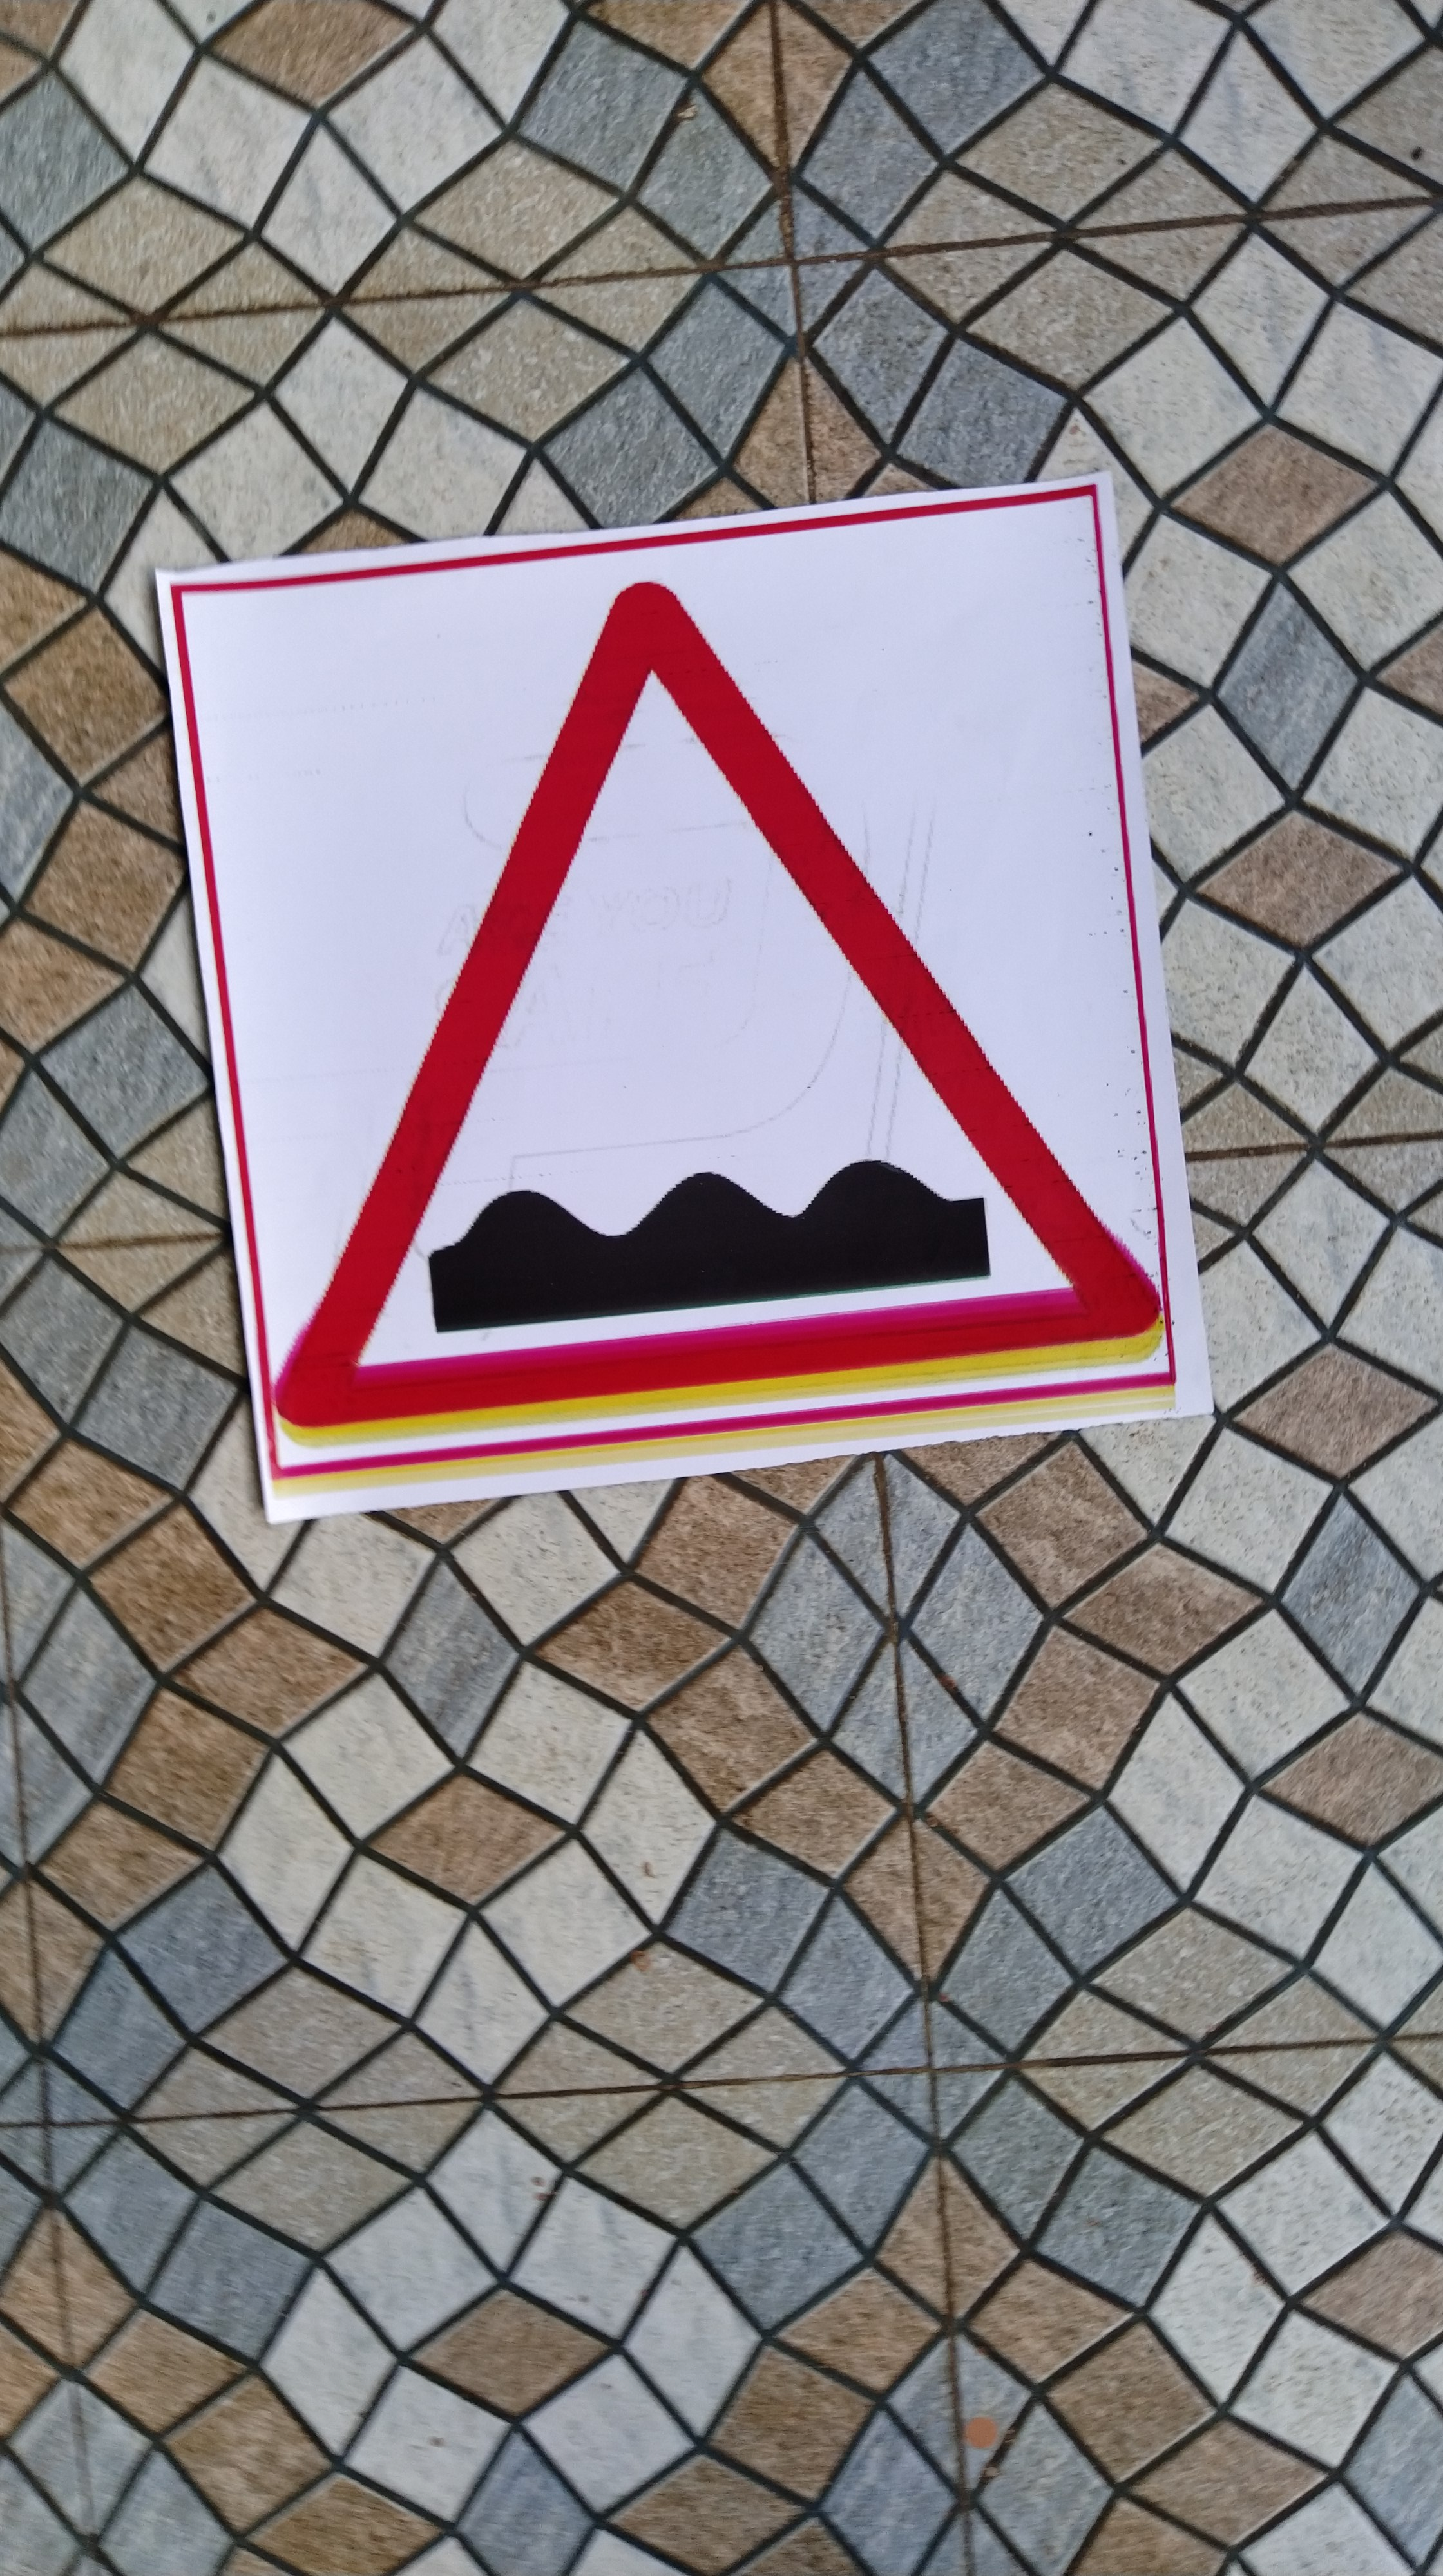speed breaker: (163, 561, 1223, 1479)
